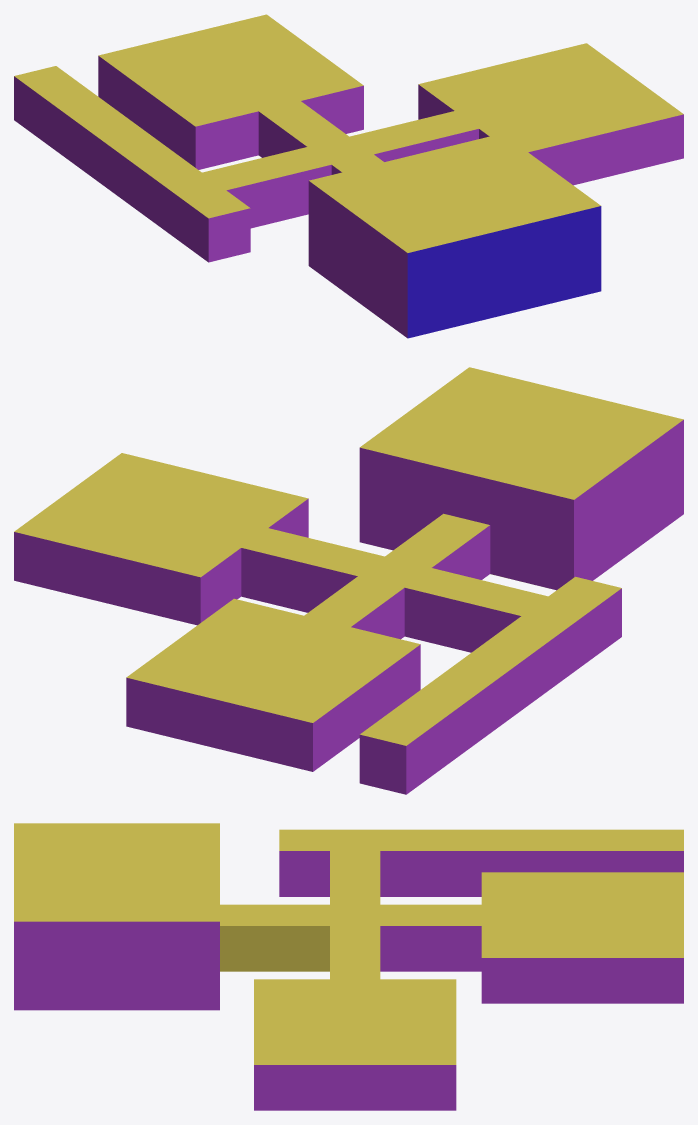
The model's file is station_interior_2.glb.
3 views of the same model, one above another, from view 1: azimuth 30°, elevation 25°; view 2: azimuth 150°, elevation 25°; view 3: azimuth 270°, elevation 25° (orthographic). The views are drawn at different scales.
Visible parts, largest first — view 1: Cube; view 2: Cube; view 3: Cube.
Boxes of the visible parts, x1,y1,x2,y2 form: Cube: [14, 14, 683, 338]; Cube: [14, 367, 683, 794]; Cube: [14, 823, 683, 1110].
Size of the model in its own units: 22 by 3.87 by 26.49.
